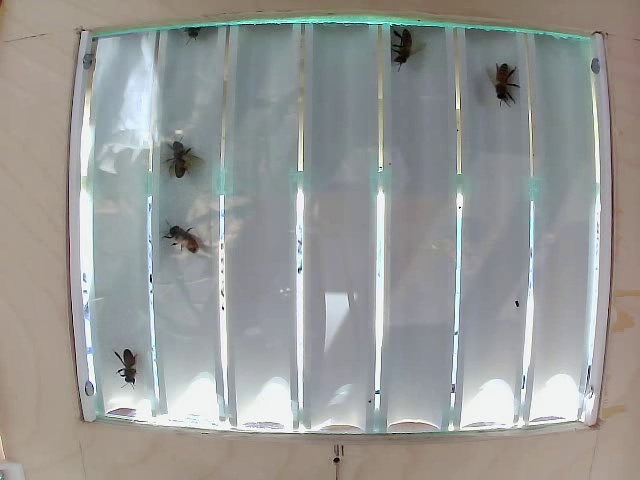bee: (496, 68, 541, 121), (165, 215, 210, 262), (166, 140, 214, 176), (394, 25, 423, 72), (105, 342, 130, 391)
